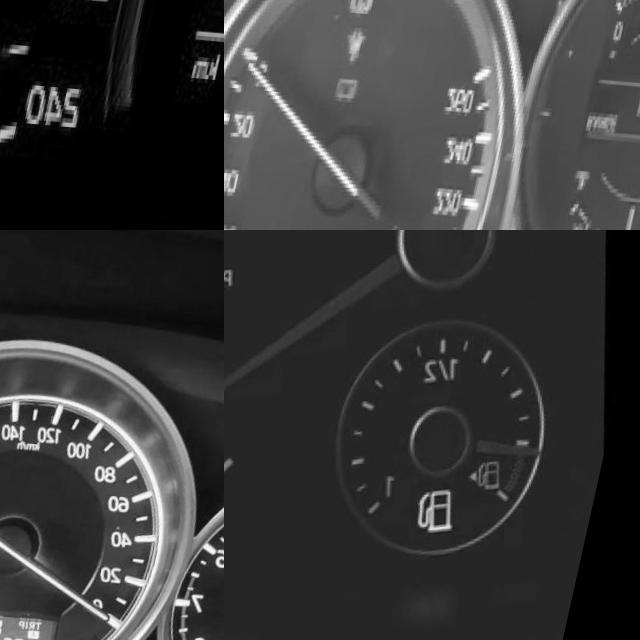Seat Belt: (352, 25, 378, 60)
